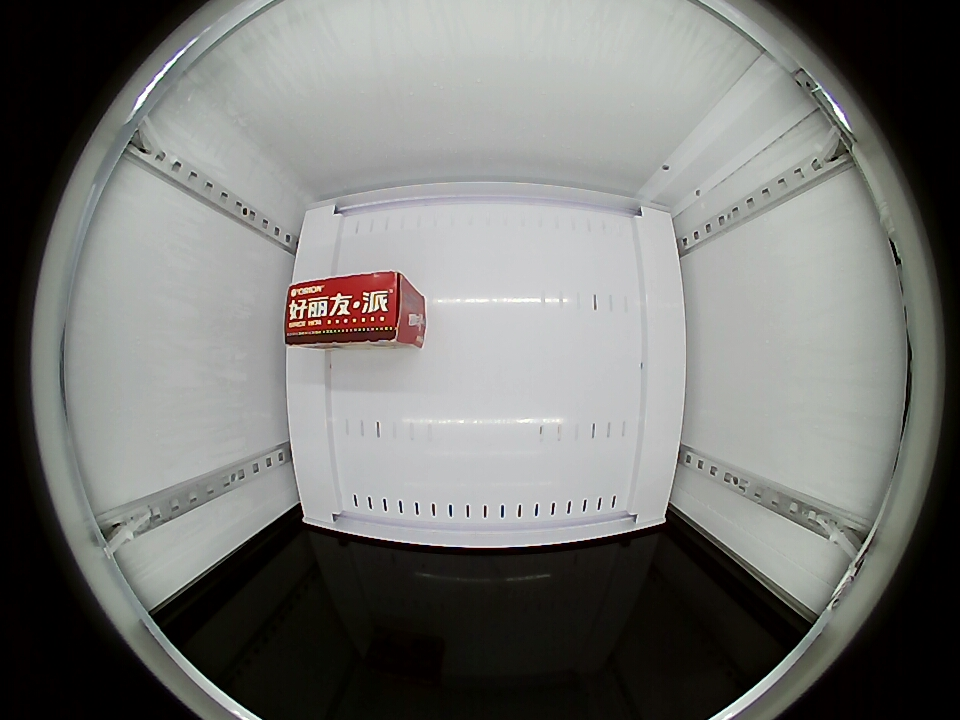haoliyou: (283, 271, 411, 347)
